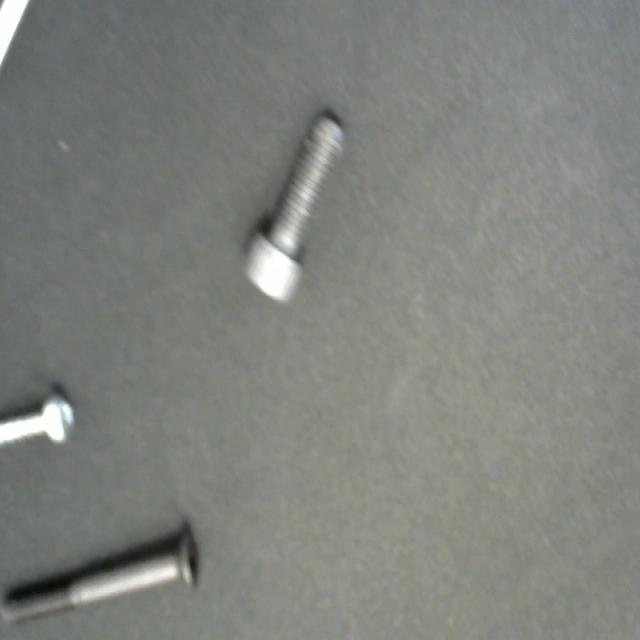FlatHeadSocketScrew: (0, 515, 206, 640)
SheetMetalScrew: (0, 382, 79, 460)
SocketHeadCapScrew: (241, 98, 352, 312)
